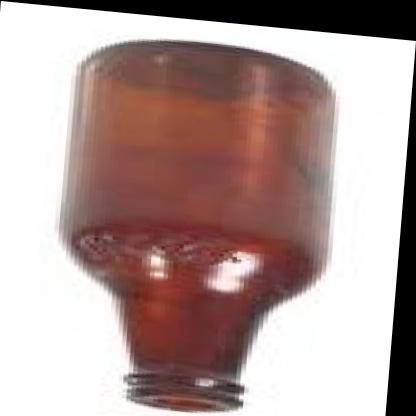trash: (60, 41, 334, 410)
